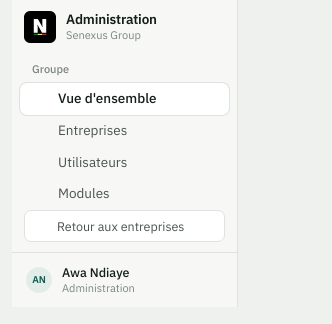
AdminSidebar › opens its account menu without throwing
Click the button with aria-label "Menu du compte" at (124, 279), box [12,252,237,307]
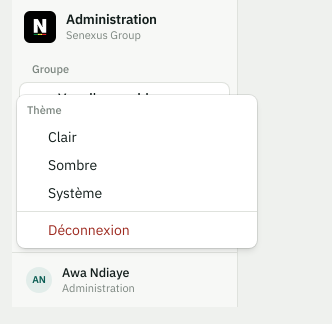
Expected: the text "Thème" is shown, [27,103,62,117]
Expected: the menu item "Déconnexion" is shown, [48,221,130,239]
